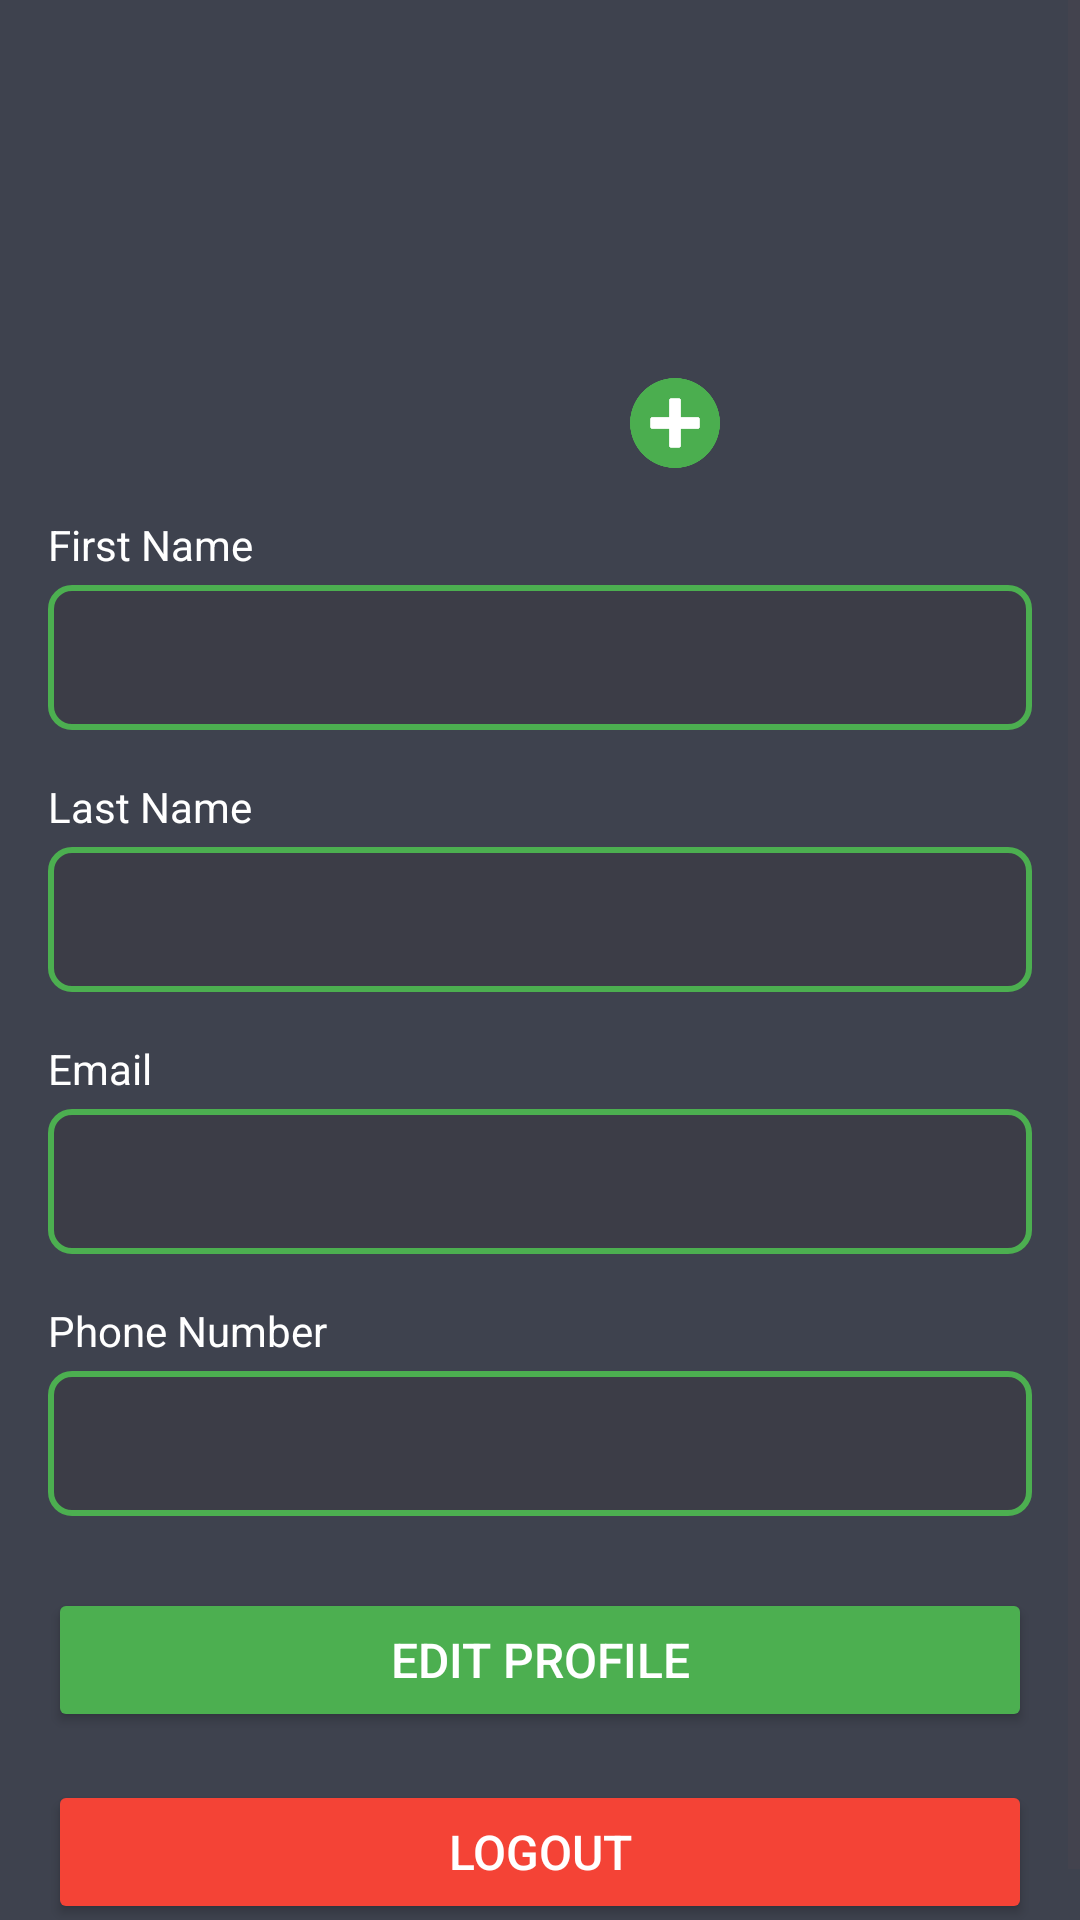

Icons on this 1080px×1920px Android screen, each with its box as box=[x1, y1, x2, y2]:
add: box=[630, 378, 720, 468]
